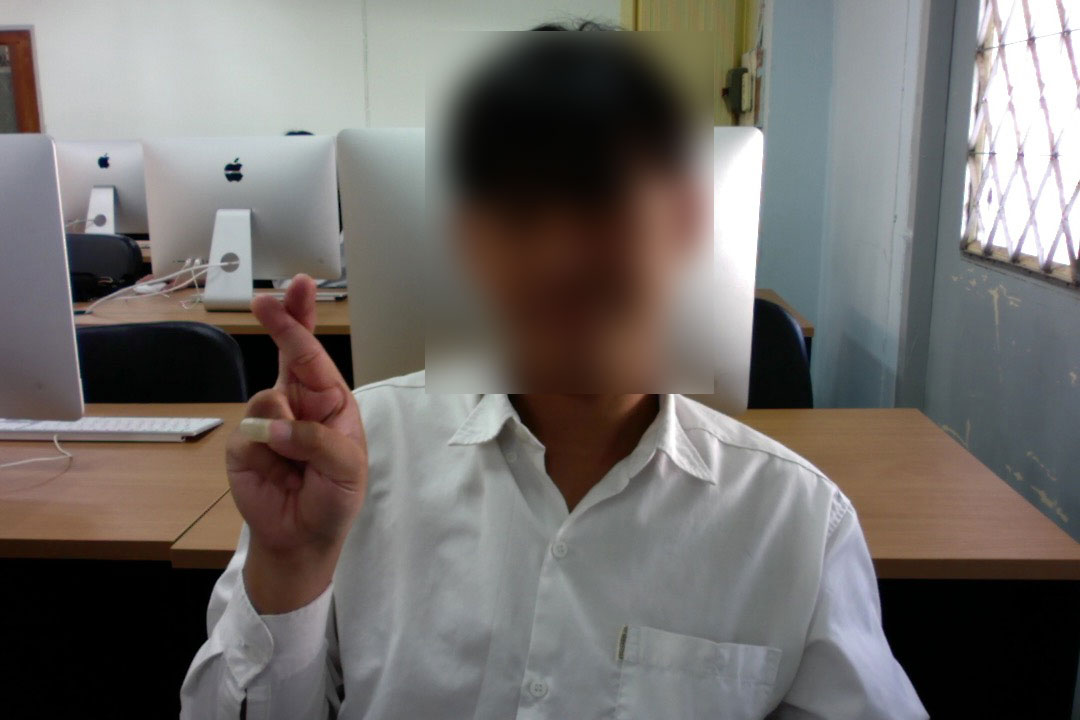rao: (204, 270, 386, 556)
